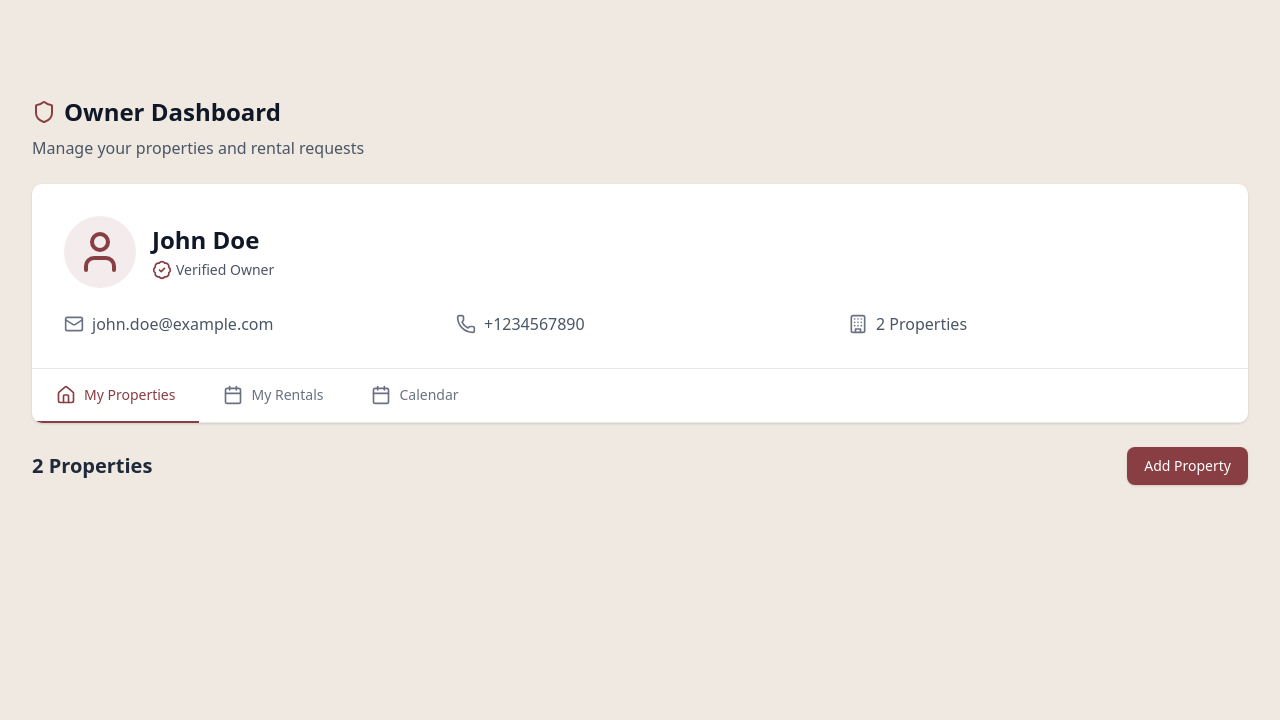
Test: OwnerProfilePage › Rentals Tab › should show no rentals message when filtered results are empty
Switch to rentals tab
Click the button "My Rentals".
click(274, 396)  # box [200,369,348,423]
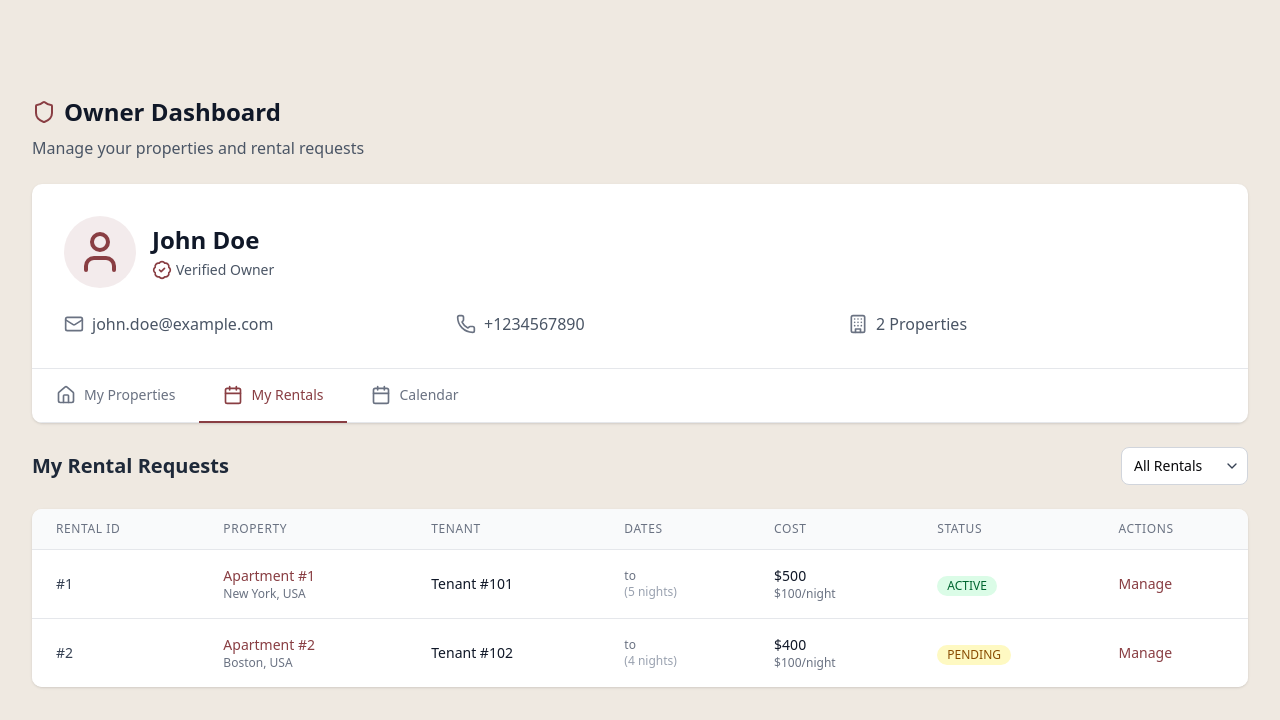
Select "Completed" in the dropdown showing "All Rentals" at {"x": 1184, "y": 466}, box [1121,447,1248,485]
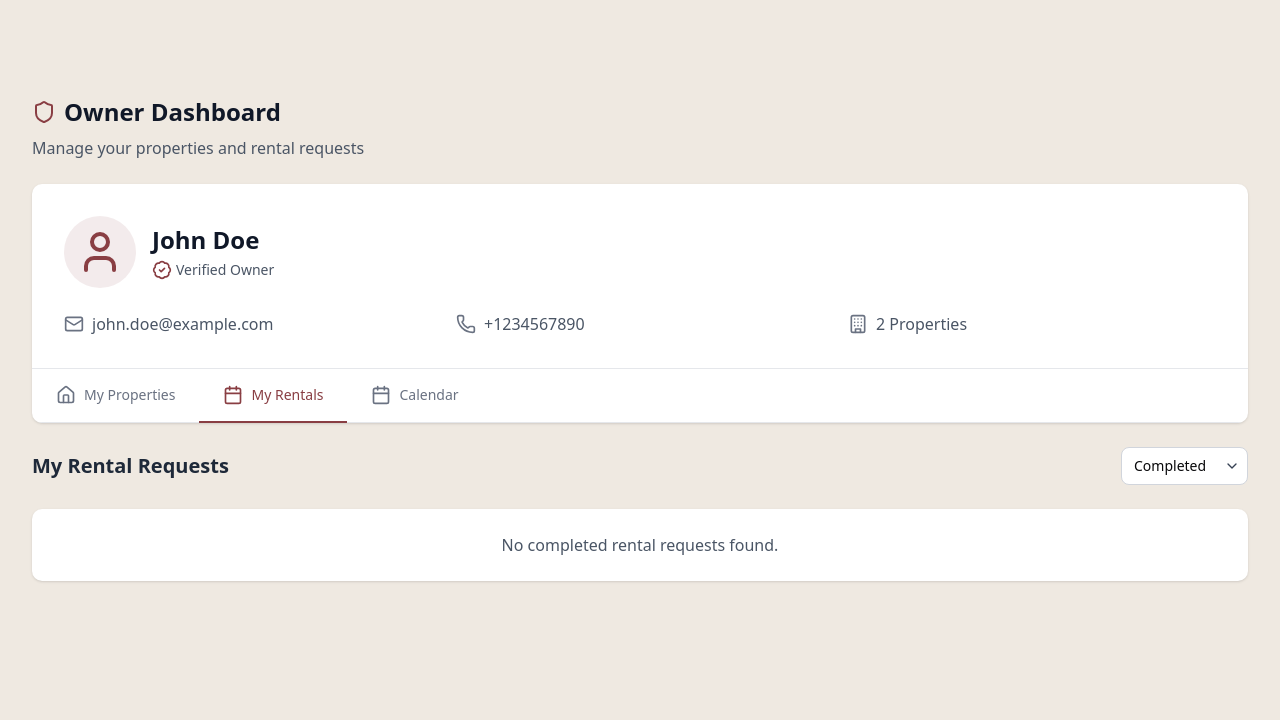
expect the text "No completed rental requests found." is shown: met, box [502,534,778,556]
